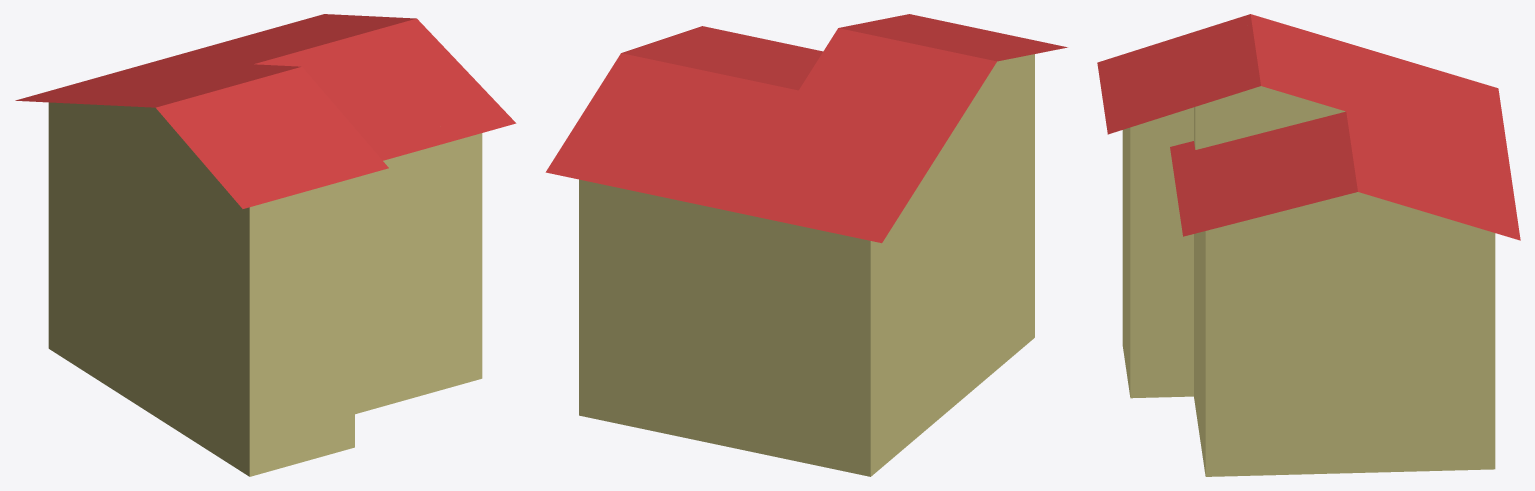
3 views of the same model, side by side, from view 1: azimuth 30°, elevation 25°; view 2: azimuth 150°, elevation 25°; view 3: azimuth 270°, elevation 25° (orthographic). The views are drawn at different scales.
Visible parts, largest first — view 1: group_5, group_9, group_3, group_7, group_8; view 2: group_5, group_3, group_7; view 3: group_5, group_9, group_3, group_7, group_8.
Part boxes in pixels (x1,y1,x2,y2): group_5: (48, 102, 354, 476); group_9: (355, 133, 482, 414); group_3: (15, 14, 416, 208); group_7: (254, 18, 516, 160); group_8: (372, 25, 513, 157); group_5: (579, 54, 1034, 476); group_3: (545, 14, 1067, 243); group_7: (621, 26, 822, 90); group_5: (1122, 86, 1495, 472); group_9: (1195, 192, 1356, 476); group_3: (1097, 14, 1520, 240); group_7: (1170, 111, 1357, 236); group_8: (1170, 141, 1346, 235).
Bounding box in the file's own units: 11.88 × 13.19 × 10.97.
